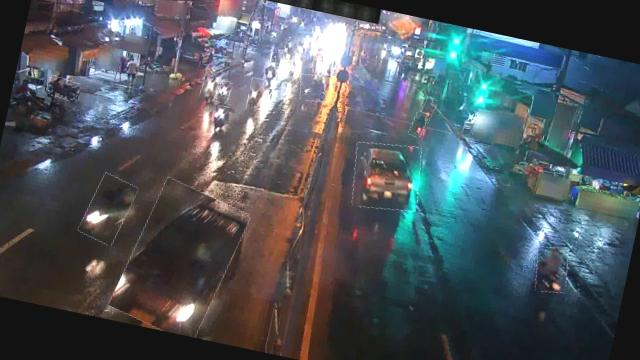Bike: (80, 170, 137, 246), (532, 244, 574, 296), (297, 70, 337, 105), (46, 75, 82, 102), (246, 77, 265, 112), (210, 105, 230, 135), (199, 74, 220, 102), (418, 96, 437, 126), (409, 110, 428, 138), (262, 60, 280, 88), (215, 80, 233, 104)
Car: (113, 176, 248, 342), (346, 136, 426, 216)
